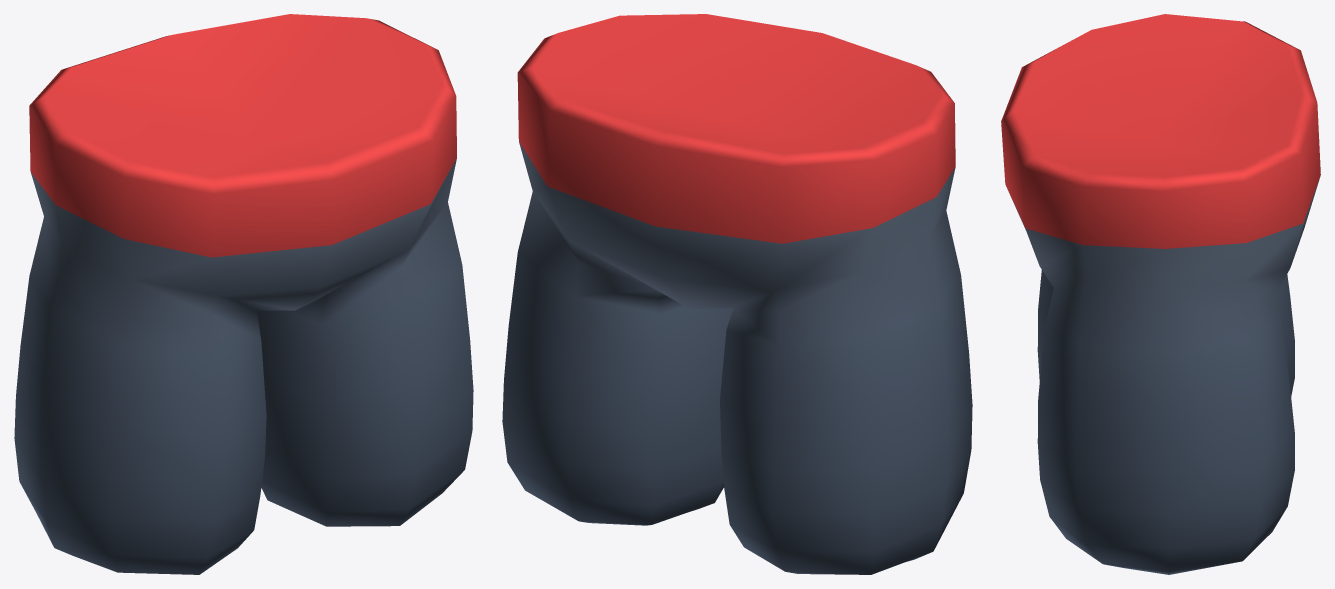
Rendered from Bottom_1.fbx.
3 renders of one model, left to right at view 1: azimuth 30°, elevation 25°; view 2: azimuth 150°, elevation 25°; view 3: azimuth 270°, elevation 25°, orthographic. The views are drawn at different scales.
Parts seen in each view (by area): view 1: Bottom_1; view 2: Bottom_1; view 3: Bottom_1.
Part boxes in pixels (bbox=[...]): Bottom_1: bbox=[14, 14, 473, 574]; Bottom_1: bbox=[502, 14, 972, 574]; Bottom_1: bbox=[1001, 14, 1320, 574].
Bounding box in the file's own units: 40.89 × 41.56 × 29.68.
